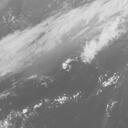cyclone: (44, 39, 107, 98)
